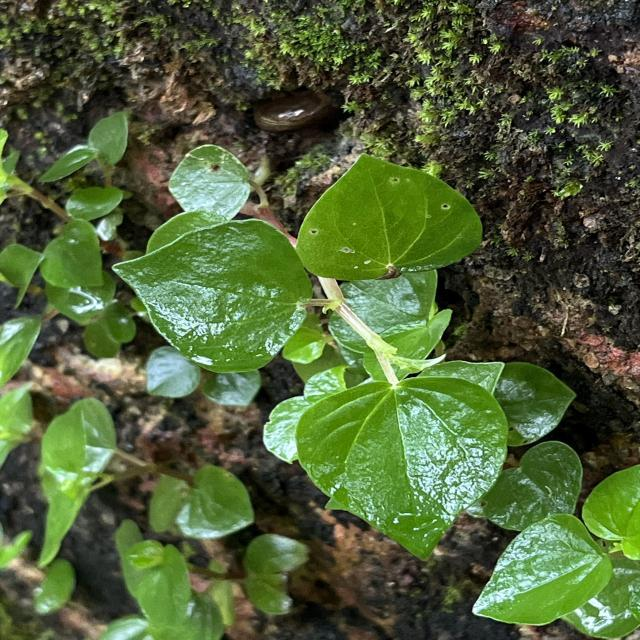Peperomia pellucida: (294, 374, 512, 563), (110, 217, 314, 376), (294, 152, 484, 282)
